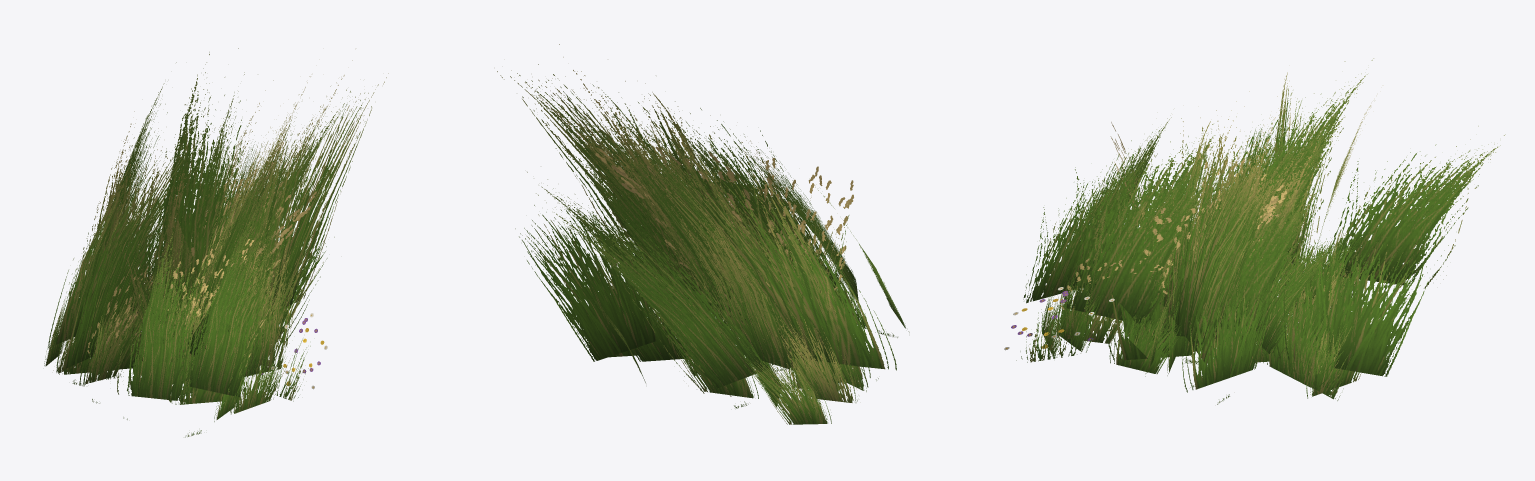
File: erba_ciuffi.gltf
3 views of the same model, side by side, from view 1: azimuth 30°, elevation 25°; view 2: azimuth 150°, elevation 25°; view 3: azimuth 270°, elevation 25° (orthographic). The views are drawn at different scales.
Visible parts, largest first — view 1: Prato_Alto, Erba_Lunga, Erba_Lunga_Secca, Prato_Denso_B, Prato_Denso_C, Graminacee_Semi, Prato_Denso_A, Erba_PunteSecche, Erba_Alta; view 2: Prato_Alto, Erba_Lunga, Erba_Lunga_Secca, Prato_Denso_B, Prato_Denso_A, Graminacee_Semi, Prato_Denso_C; view 3: Prato_Alto, Prato_Denso_B, Erba_Lunga, Prato_Denso_A, Erba_Lunga_Secca, Prato_Denso_C, Graminacee_Semi.
Boxes of the visible parts, bbox=[...] form: Prato_Alto: bbox=[48, 62, 388, 401]; Erba_Lunga: bbox=[132, 48, 349, 310]; Erba_Lunga_Secca: bbox=[131, 60, 352, 332]; Prato_Denso_B: bbox=[53, 229, 334, 412]; Prato_Denso_C: bbox=[44, 279, 285, 421]; Graminacee_Semi: bbox=[160, 141, 316, 363]; Prato_Denso_A: bbox=[59, 256, 287, 437]; Erba_PunteSecche: bbox=[127, 234, 199, 371]; Erba_Alta: bbox=[137, 238, 285, 372]; Prato_Alto: bbox=[497, 71, 909, 393]; Erba_Lunga: bbox=[517, 64, 749, 329]; Erba_Lunga_Secca: bbox=[511, 44, 780, 325]; Prato_Denso_B: bbox=[609, 225, 868, 408]; Prato_Denso_A: bbox=[589, 247, 897, 415]; Graminacee_Semi: bbox=[595, 146, 853, 318]; Prato_Denso_C: bbox=[740, 268, 878, 424]; Prato_Alto: bbox=[1023, 72, 1505, 376]; Prato_Denso_B: bbox=[1004, 236, 1362, 400]; Erba_Lunga: bbox=[1186, 58, 1373, 324]; Prato_Denso_A: bbox=[1069, 223, 1372, 398]; Erba_Lunga_Secca: bbox=[1172, 91, 1327, 327]; Prato_Denso_C: bbox=[1041, 227, 1359, 404]; Graminacee_Semi: bbox=[1110, 122, 1287, 333].
Bounding box in the file's own units: 1.42 × 0.9926 × 1.21.
1 material, 1 textured.
